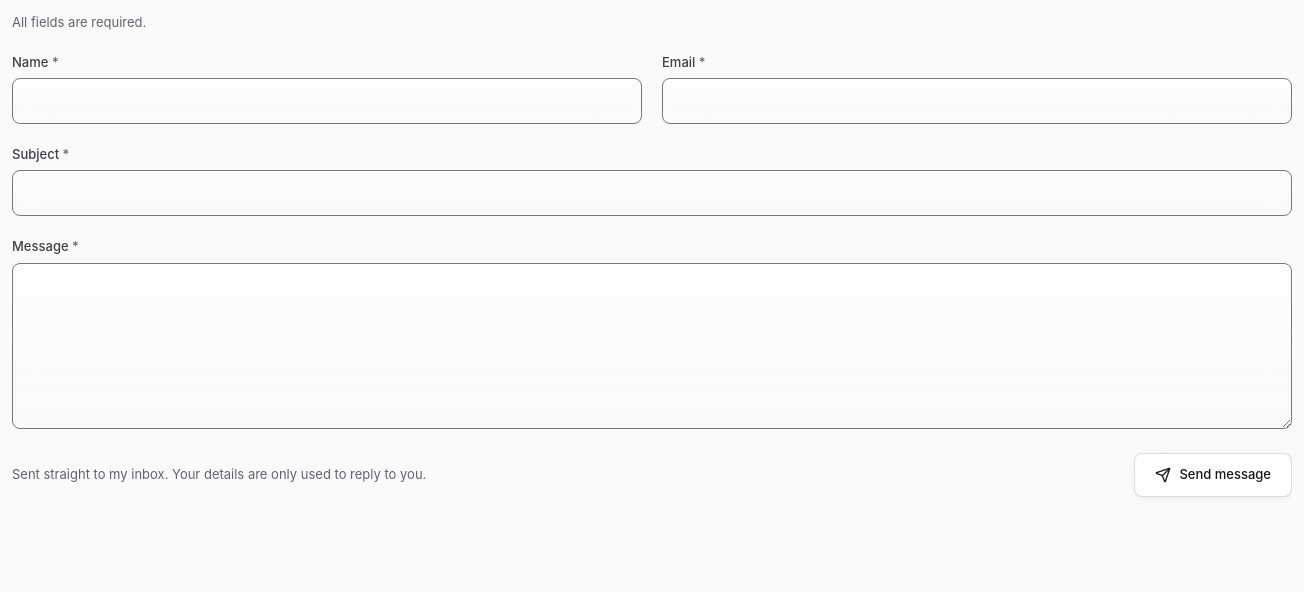
Test: ContactForm › shows errors, marks fields invalid and focuses the first invalid field
The image size is (1304, 592).
Click the button "Send message": (1213, 475) x1=1134 y1=453 x2=1292 y2=497
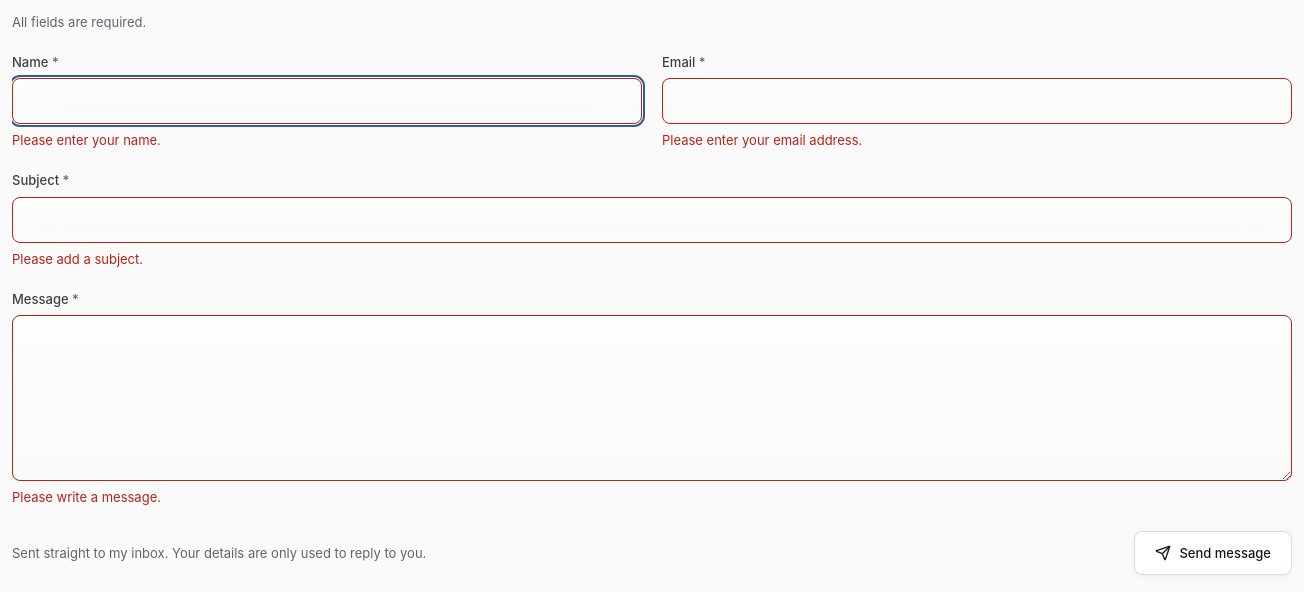
Now the text "Please enter your email address." is shown, box x1=662 y1=132 x2=862 y2=148
